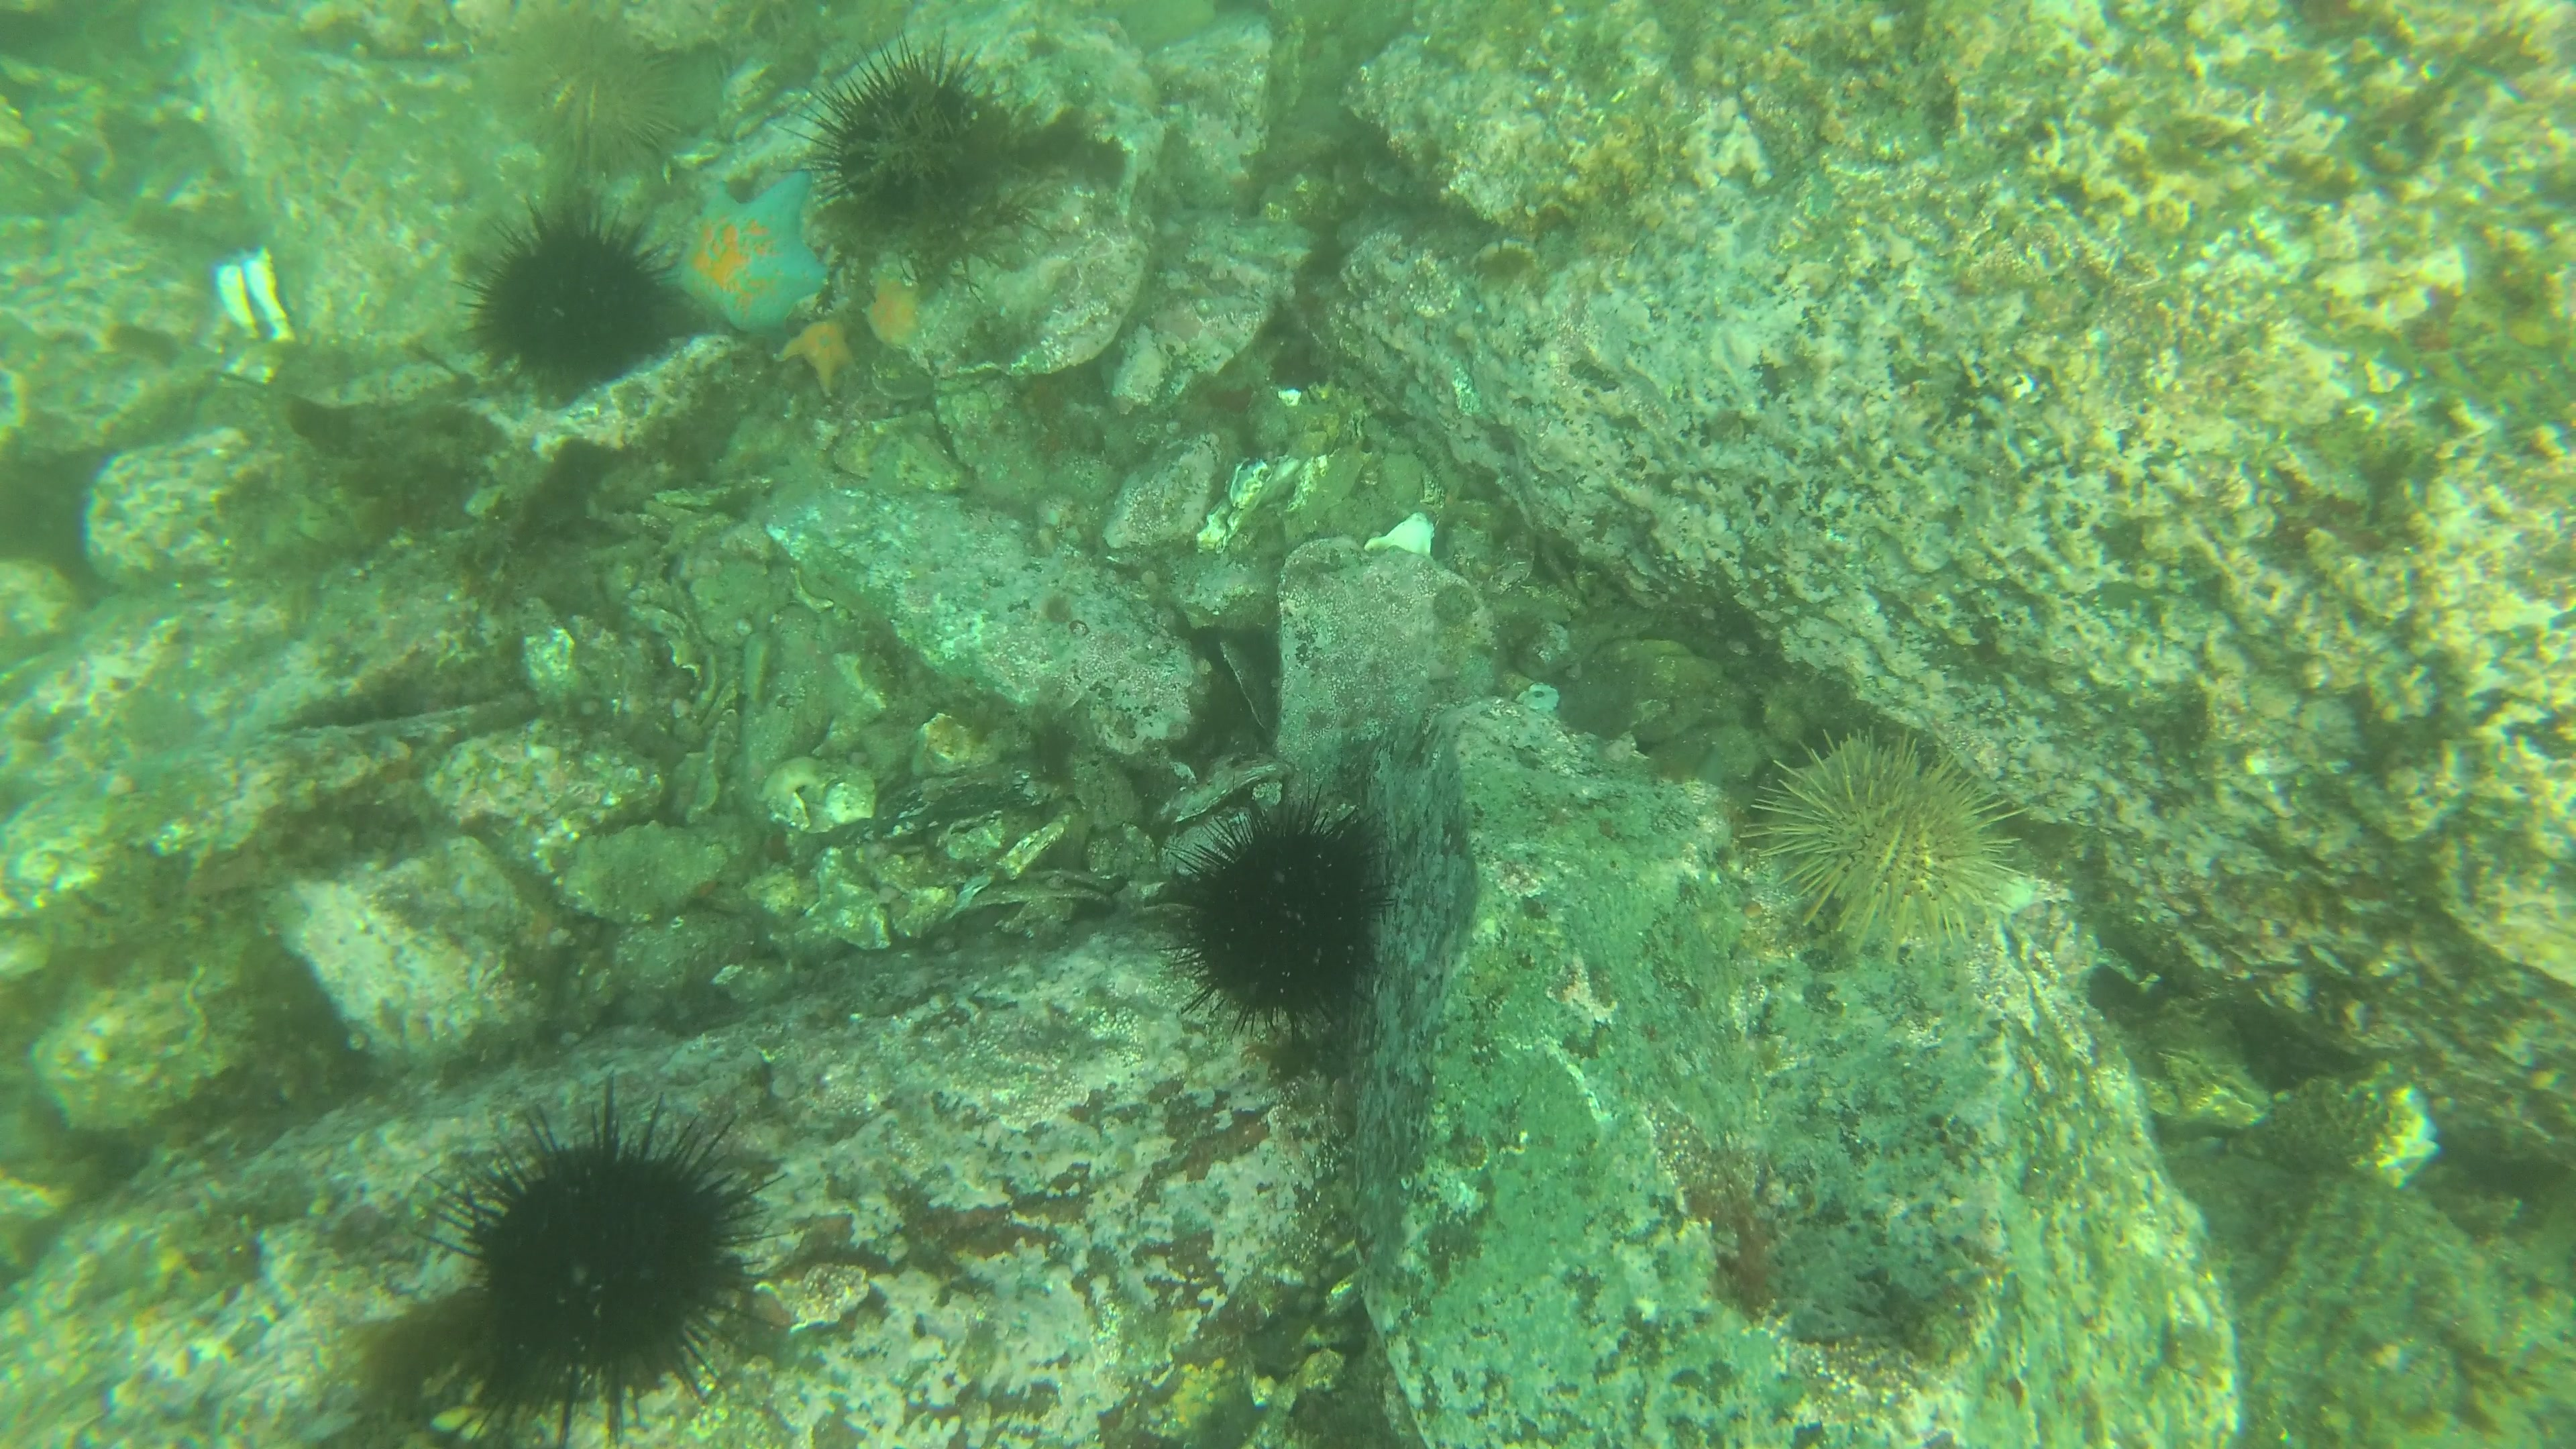echinus: (428, 1090, 786, 1428), (1755, 718, 2035, 952), (1164, 793, 1391, 1049), (801, 32, 1008, 239), (455, 205, 667, 395), (499, 16, 679, 180)
starfish: (653, 166, 828, 340), (777, 315, 853, 396), (853, 274, 931, 352)
